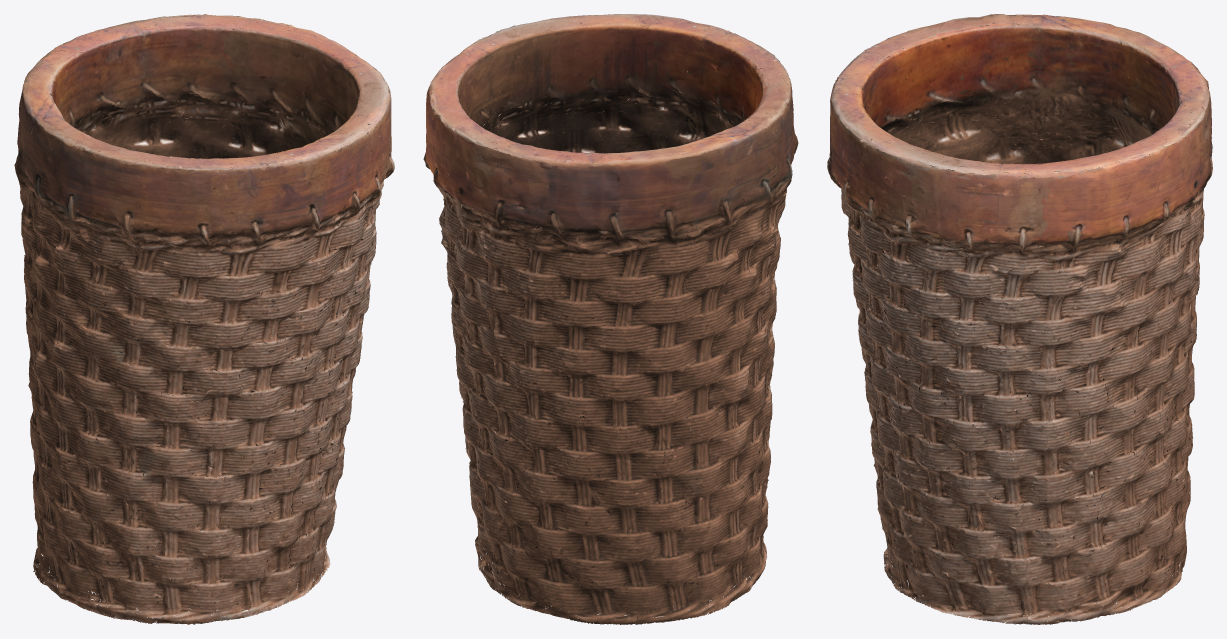
Rendered from obj_brown_wicker_trash_bin_912cc1.glb.
3 views of the same model, side by side, from view 1: azimuth 30°, elevation 25°; view 2: azimuth 150°, elevation 25°; view 3: azimuth 270°, elevation 25° (orthographic). The views are drawn at different scales.
Parts seen in each view (by area): view 1: obj_brown_wicker_trash_bin_912cc1; view 2: obj_brown_wicker_trash_bin_912cc1; view 3: obj_brown_wicker_trash_bin_912cc1.
Boxes of the visible parts, box(x1,y1,x2,y2) form: obj_brown_wicker_trash_bin_912cc1: box(14, 14, 394, 624); obj_brown_wicker_trash_bin_912cc1: box(423, 14, 798, 624); obj_brown_wicker_trash_bin_912cc1: box(827, 14, 1212, 624).
Bounding box in the file's own units: 0.428 × 0.6002 × 0.4317.
Materials: 1 (1 with a texture image).
